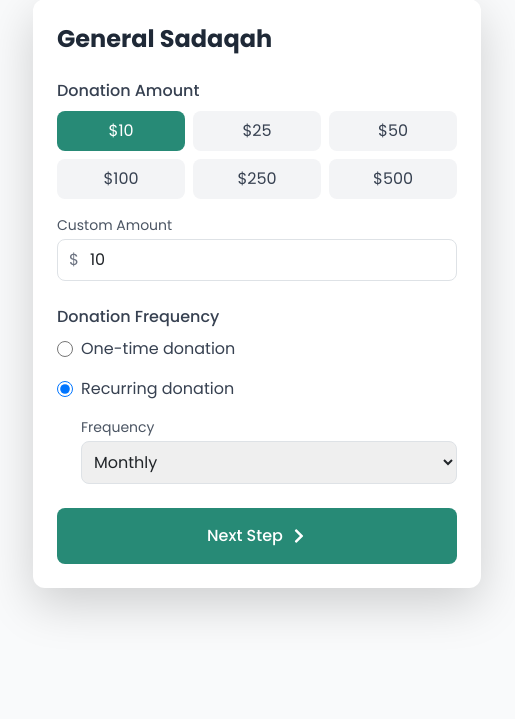
Test: SadaqahDonateForm › changes to second step when Next Step is clicked
// Click Next Step button
Click the button "Next Step".
click(257, 536)  # box [57, 508, 457, 564]
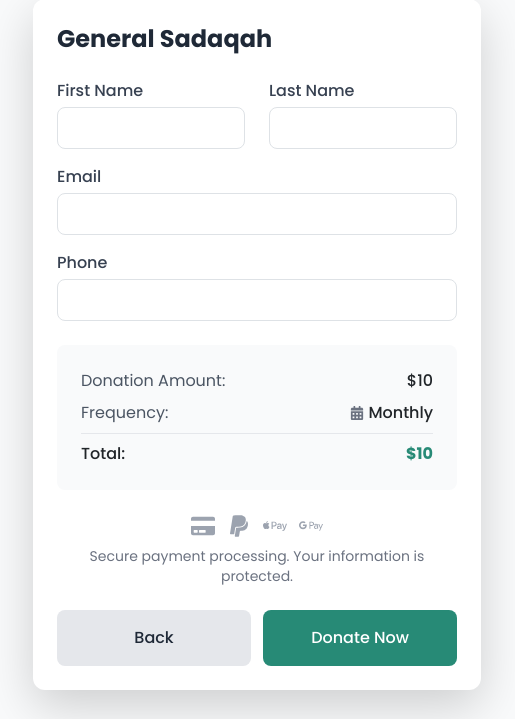
Now the field labelled "First Name" is shown, box [57, 107, 245, 149]
Now the field labelled "Last Name" is shown, box [269, 107, 457, 149]
Now the field labelled "Email" is shown, box [57, 193, 457, 235]
